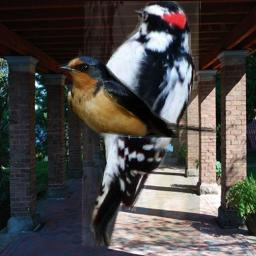Swallow: (58, 56, 224, 138)
Woodpecker: (78, 1, 201, 246)
